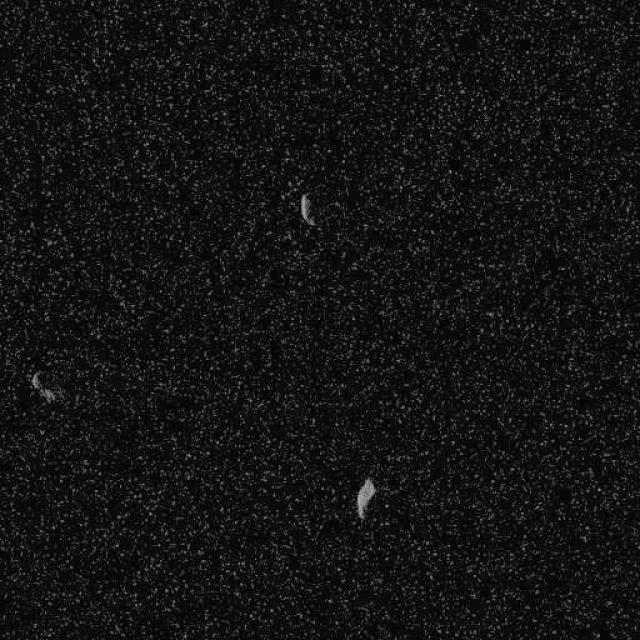D2: (28, 368, 58, 404), (354, 476, 376, 520), (299, 192, 316, 226)
